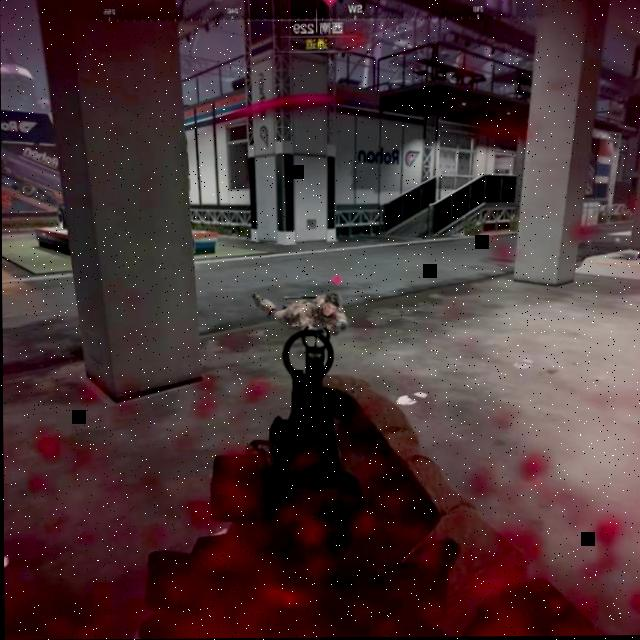MW2_body: (251, 272, 347, 333)
